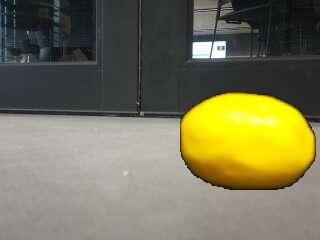Lemon: (180, 93, 319, 192)
